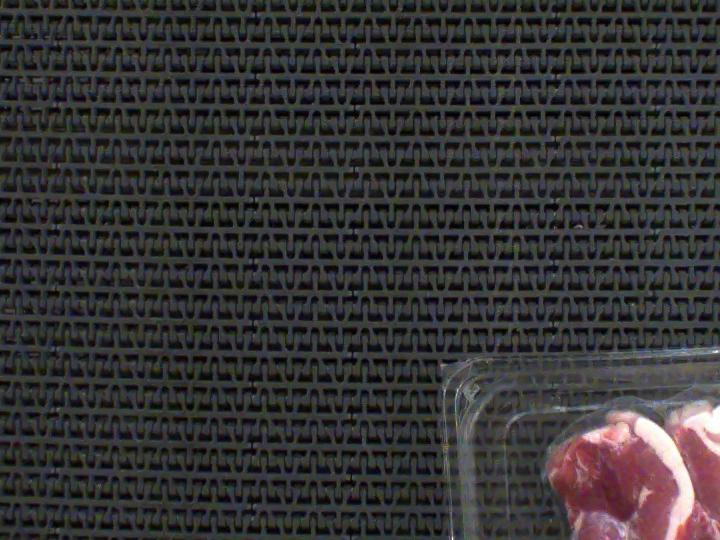unsealed: (507, 357, 720, 540)
